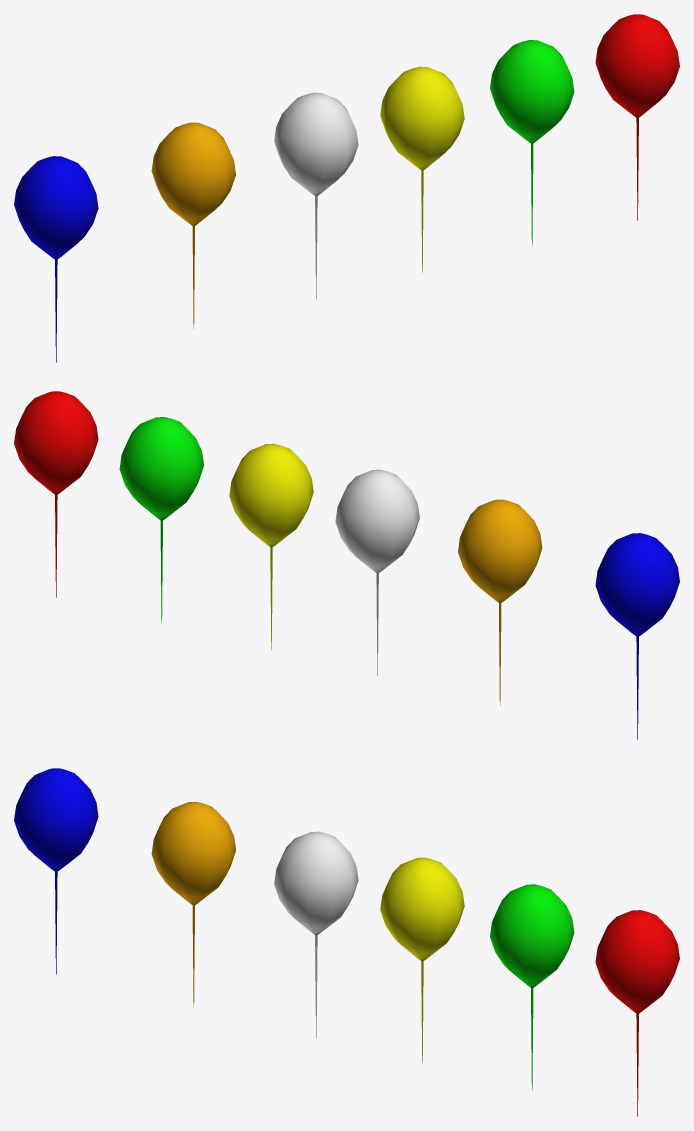
Rendered from Balloons.fbx.
The picture shows the model from 3 angles, top to bottom: view 1: azimuth 30°, elevation 25°; view 2: azimuth 150°, elevation 25°; view 3: azimuth 330°, elevation 25°; orthographic projection.
Visible parts, largest first — view 1: Orange_Balloon, Red_Balloon, White_Balloon, Blue_Balloon, Green_Balloon, Yellow_Balloon; view 2: Orange_Balloon, Red_Balloon, White_Balloon, Blue_Balloon, Green_Balloon, Yellow_Balloon; view 3: White_Balloon, Orange_Balloon, Blue_Balloon, Yellow_Balloon, Red_Balloon, Green_Balloon.
Part boxes in pixels (x1,y1,x2,y2): Orange_Balloon: (151,122,235,328); Red_Balloon: (595,14,679,220); White_Balloon: (274,92,358,299); Blue_Balloon: (14,156,98,362); Green_Balloon: (490,40,574,246); Yellow_Balloon: (380,66,464,272); Orange_Balloon: (458,499,542,705); Red_Balloon: (14,391,98,597); White_Balloon: (335,469,419,676); Blue_Balloon: (595,533,679,739); Green_Balloon: (119,417,203,623); Yellow_Balloon: (229,443,313,649); White_Balloon: (274,831,358,1038); Orange_Balloon: (151,801,235,1007); Blue_Balloon: (14,768,98,974); Yellow_Balloon: (380,857,464,1063); Red_Balloon: (595,910,679,1116); Green_Balloon: (490,884,574,1090).
Bounding box in the file's own units: 1284 × 381 × 137.
